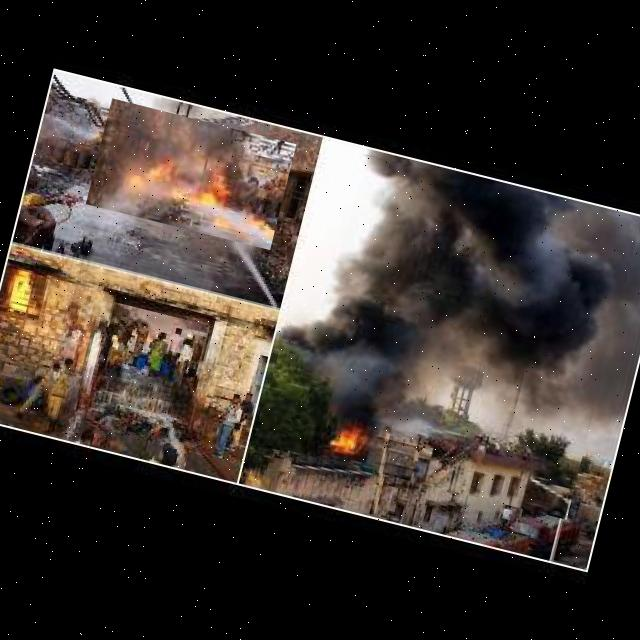fire: (255, 145, 640, 519), (85, 98, 296, 250)
